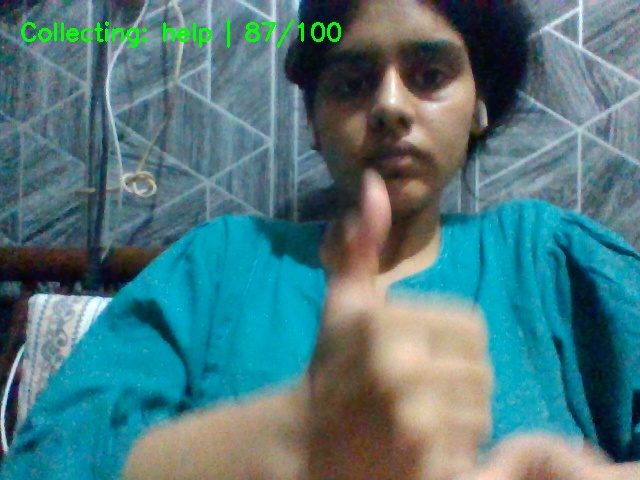help: (290, 169, 599, 480)
